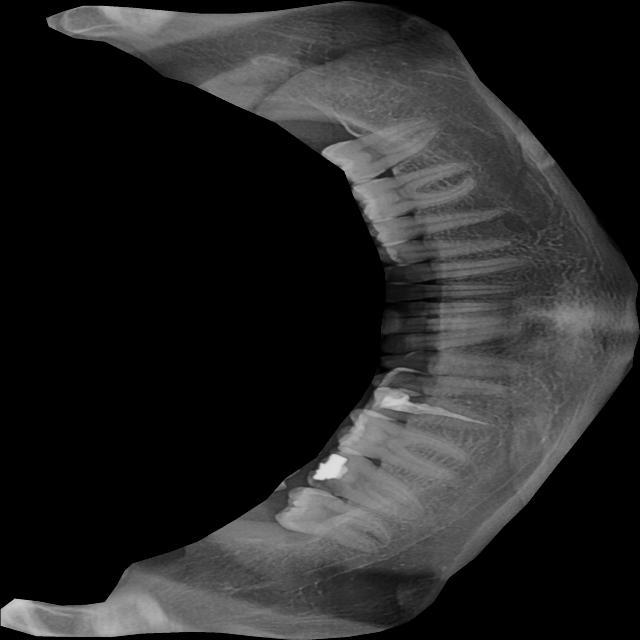mandibula: (1, 0, 640, 640)
